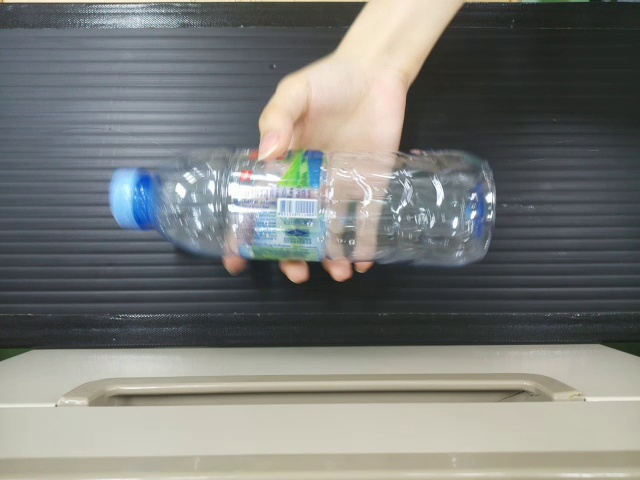bottle: (107, 135, 504, 271)
